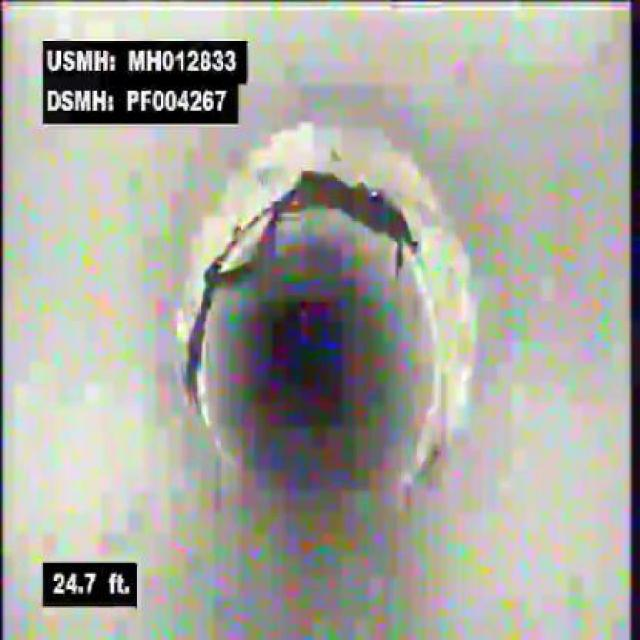Joint offset: (254, 124, 452, 250), (406, 248, 488, 475), (172, 210, 245, 376)
